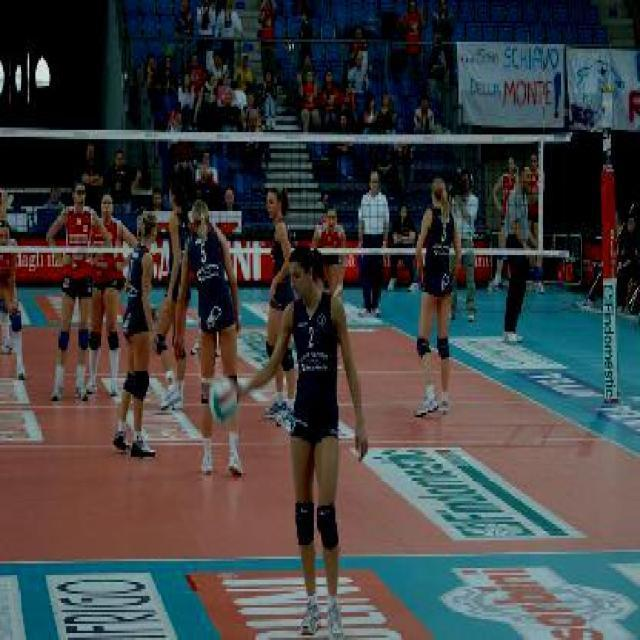volleyball: (210, 380, 240, 424)
